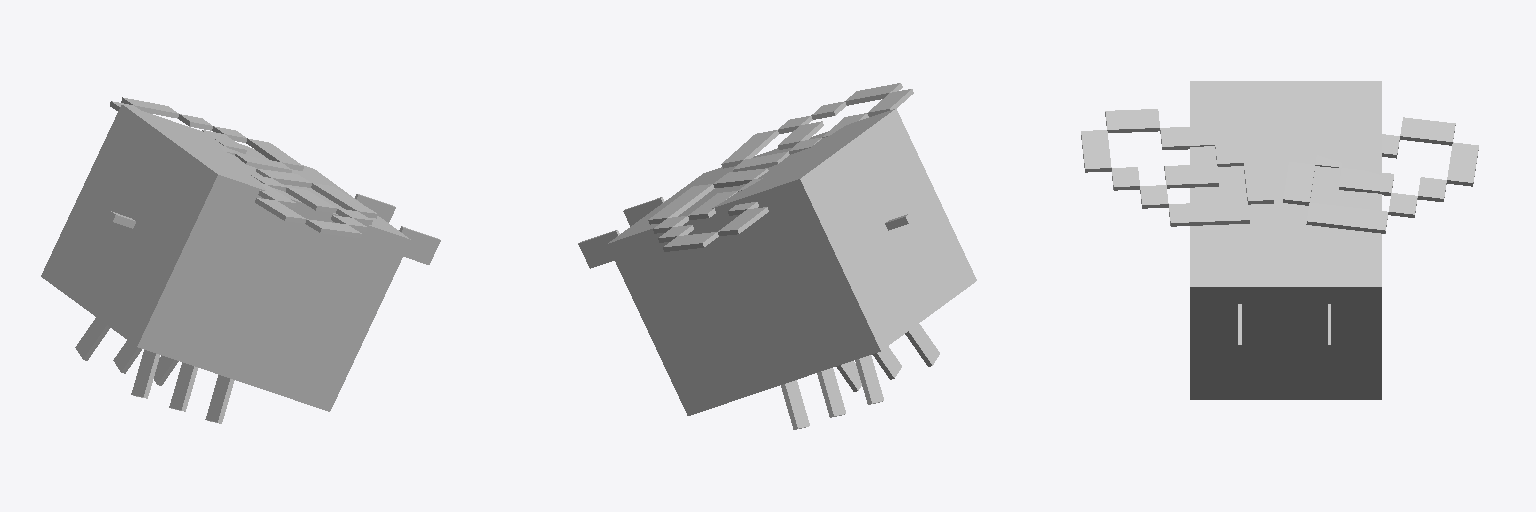
The model's file is Bee_ (31).obj.
The picture shows the model from 3 angles: view 1: azimuth 30°, elevation 25°; view 2: azimuth 150°, elevation 25°; view 3: azimuth 270°, elevation 25°; orthographic projection.
Parts seen in each view (by area): view 1: b_Bee_MAT_0, l_Bee_MAT_0, r_Bee_MAT_0; view 2: b_Bee_MAT_0, r_Bee_MAT_0, l_Bee_MAT_0; view 3: b_Bee_MAT_0, l_Bee_MAT_0, r_Bee_MAT_0.
Part boxes in pixels (bbox=[...]): b_Bee_MAT_0: bbox=[41, 104, 440, 423]; l_Bee_MAT_0: bbox=[251, 169, 377, 237]; r_Bee_MAT_0: bbox=[110, 97, 303, 172]; b_Bee_MAT_0: bbox=[578, 109, 976, 429]; r_Bee_MAT_0: bbox=[648, 168, 768, 251]; l_Bee_MAT_0: bbox=[721, 83, 913, 171]; b_Bee_MAT_0: bbox=[1190, 81, 1381, 399]; l_Bee_MAT_0: bbox=[1081, 109, 1273, 226]; r_Bee_MAT_0: bbox=[1283, 117, 1478, 233].
Bounding box in the file's own units: 0.309 × 0.2424 × 0.3246.